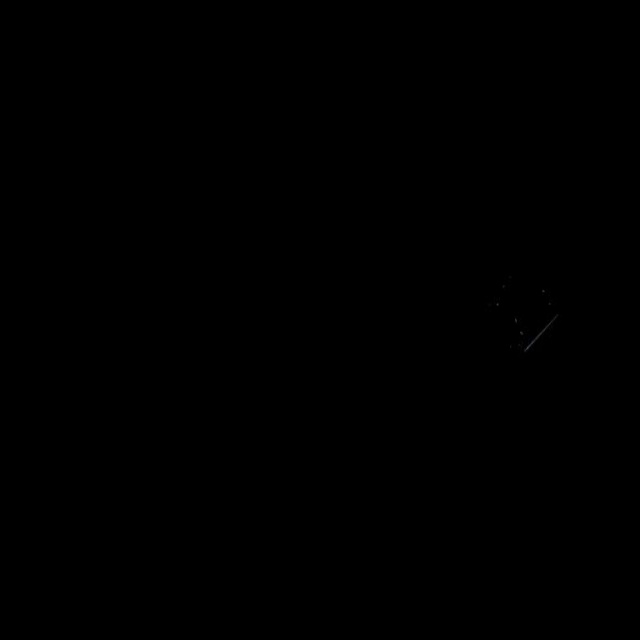medium_debris: (484, 259, 585, 361)
